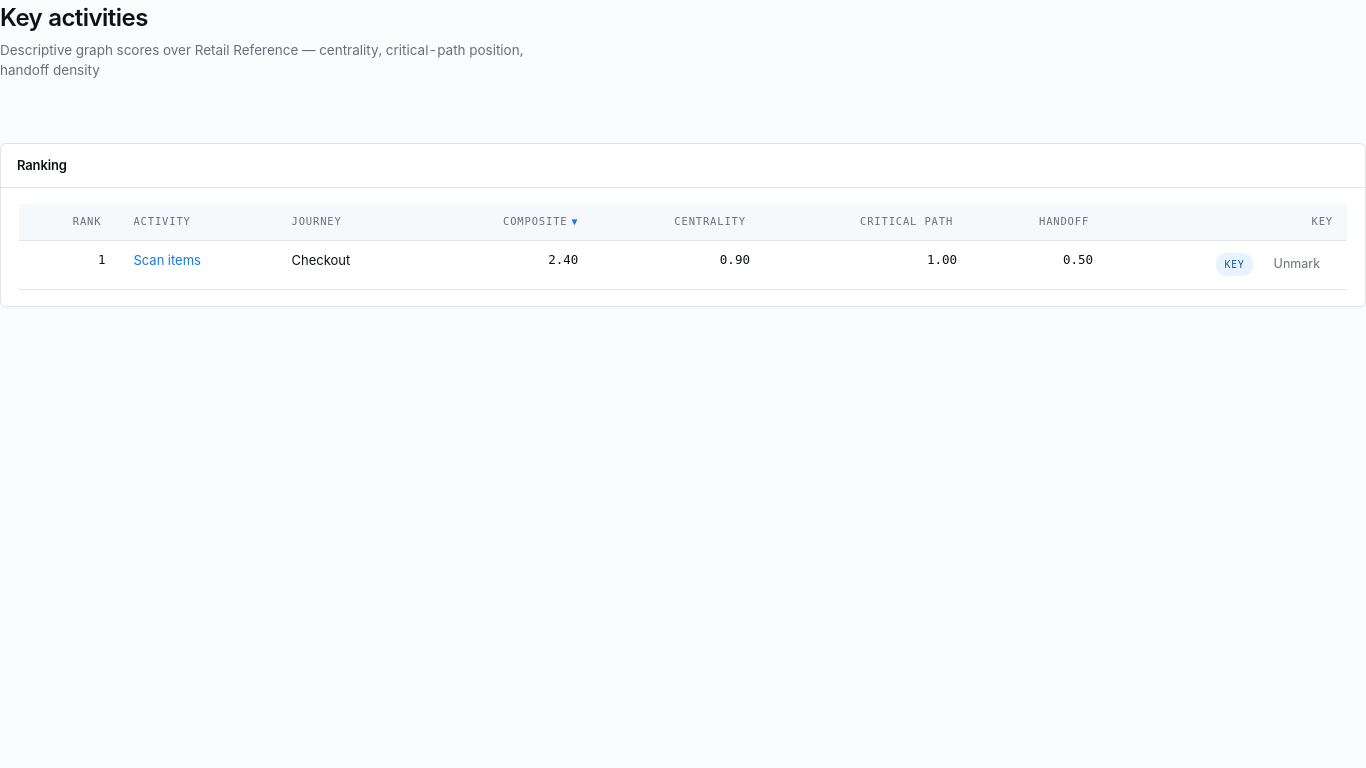
KeyActivityBoard mark toggle + evidence panel (T-14, AC-10) › row detail panel shows composite + 3 sub-scores with component evidence + markedAt/scoreSnapshot/rank when marked (AC-10, XD-11)
Expected: the element with test id "ranking-table" is shown, [19,204,1347,290]
Click the button "Scan items" at (167, 261), box [133,251,201,270]
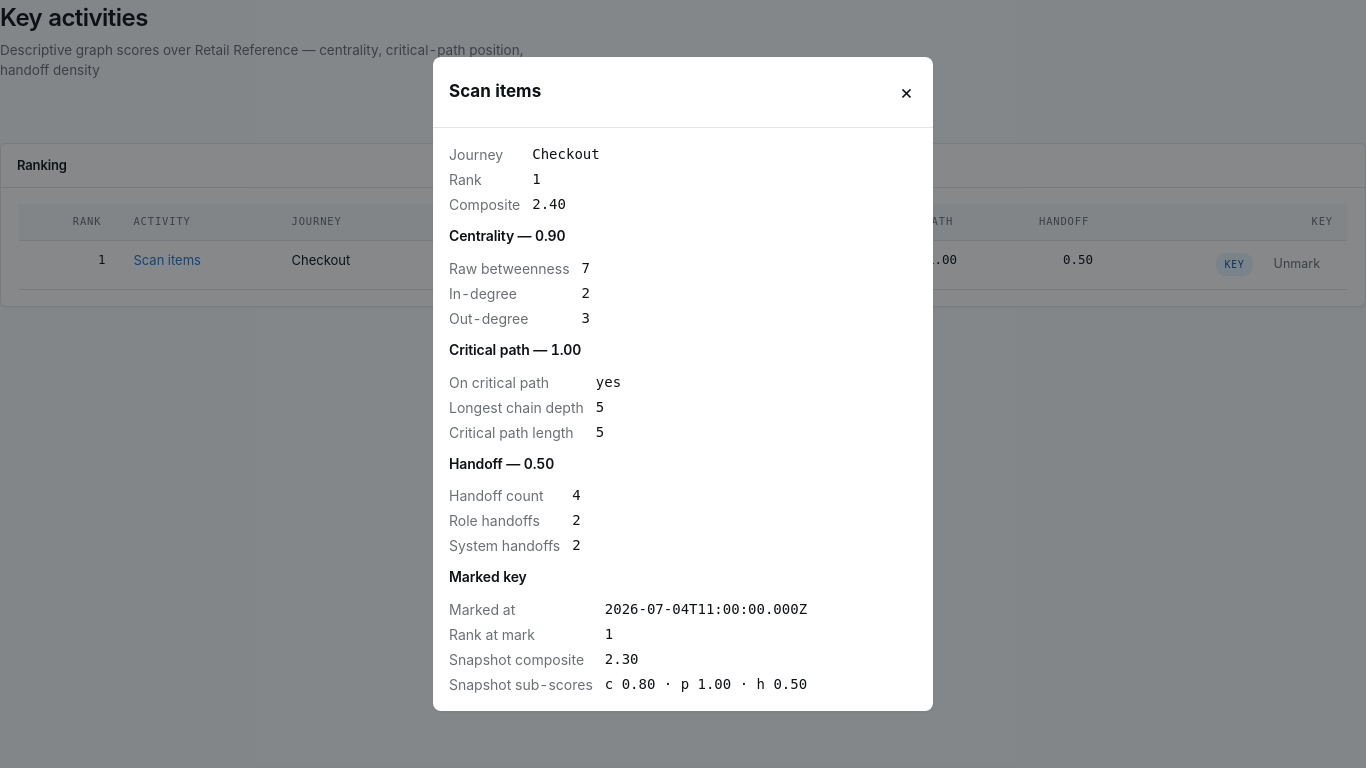
Expected: the element with test id "ka-detail-panel" is shown, [449,146,807,693]
Expected: the text with test id "detail-composite" reads "2.40", [532,196,566,212]
Expected: the text with test id "detail-betweenness" reads "7", [582,260,590,276]
